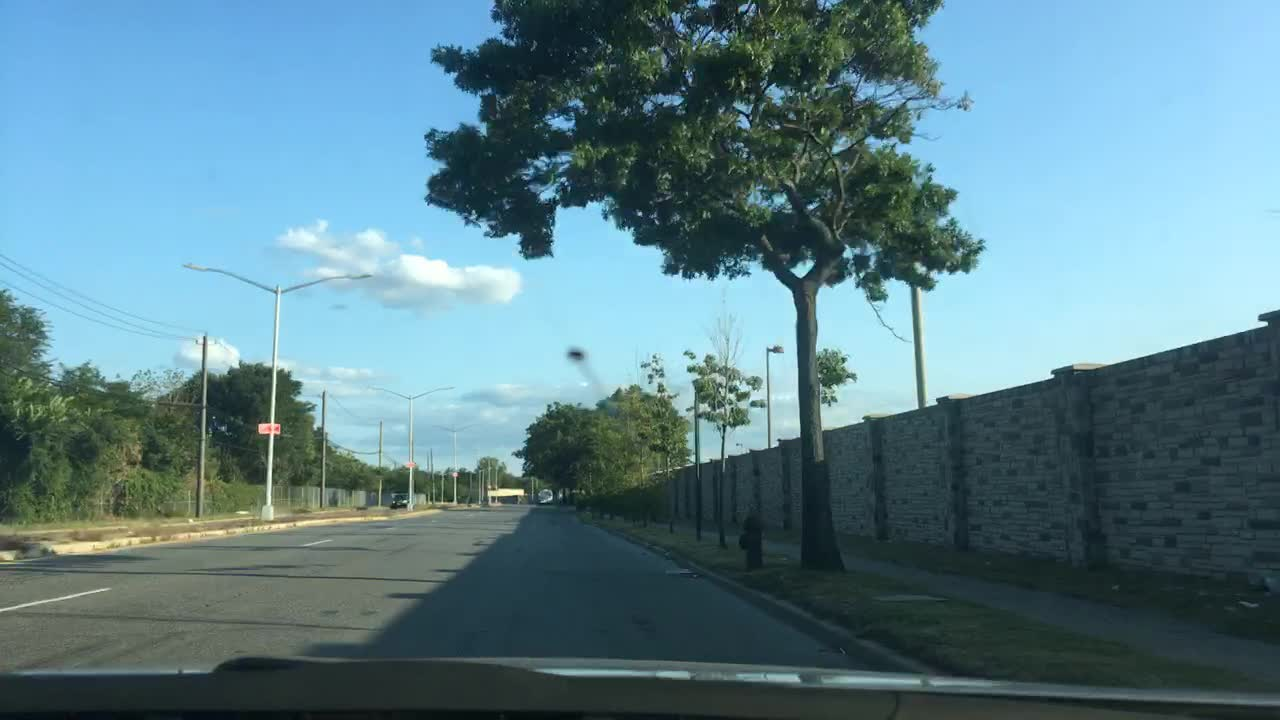bus: (536, 486, 566, 505)
car: (390, 493, 412, 510), (570, 488, 586, 503)
traffic sign: (257, 423, 281, 433), (404, 462, 416, 469), (449, 469, 458, 476)
